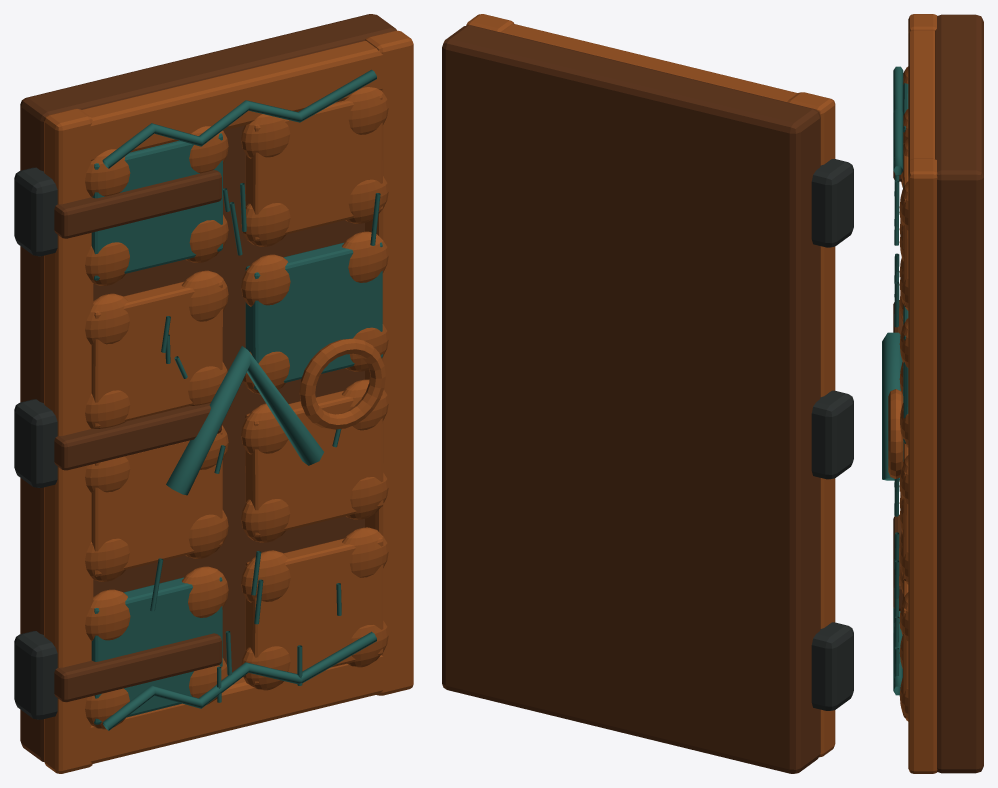
The model's file is door_bronze_pivot_LOD0.glb.
The picture shows the model from 3 angles, left to right: view 1: azimuth 30°, elevation 25°; view 2: azimuth 150°, elevation 25°; view 3: azimuth 270°, elevation 25°; orthographic projection. The views are drawn at different scales.
Parts seen in each view (by area): view 1: BronzeDoorHeart, BronzeDoorStile, BronzeDoorStile.001, BronzeDoorRail.001, BronzeDoorRail, BronzeHammeredPanel.004, BronzeHammeredPanel.007, BronzeHammeredPanel.001, BronzeHammeredPanel.005, BronzeHammeredPanel.003, BronzeHammeredPanel.002, BronzeHammeredPanel.006 (+42 smaller); view 2: BronzeDoorHeart, BronzeDoorStile, BronzeDoorRail.001, BronzePivotKnuckle.001, BronzePivotKnuckle, BronzePivotKnuckle.002; view 3: BronzeDoorHeart, BronzeDoorStile.001, BronzeDoorRail.001, BronzeLambda, BronzeCeremonialRing, BronzeMeanderTop, BronzeHammeredPanel.007, BronzeDoorStile, BronzeMeanderBottom, BronzeHingeStrap, BronzeHammeredPanel.001, BronzeHammeredPanel.003 (+12 smaller).
Part boxes in pixels (x1,y1,x2,y2): BronzeDoorHeart: (20,14,396,761); BronzeDoorStile: (44,108,93,773); BronzeDoorStile.001: (365,30,413,695); BronzeDoorRail.001: (44,40,410,166); BronzeDoorRail: (44,650,412,768); BronzeHammeredPanel.004: (91,281,222,428); BronzeHammeredPanel.007: (245,94,382,241); BronzeHammeredPanel.001: (245,537,383,684); BronzeHammeredPanel.005: (245,242,382,389); BronzeHammeredPanel.003: (245,390,383,537); BronzeHammeredPanel.002: (91,430,222,576); BronzeHammeredPanel.006: (91,133,222,280); BronzeDoorHeart: (442,25,820,773); BronzeDoorStile: (787,92,835,757); BronzeDoorRail.001: (502,24,835,150); BronzePivotKnuckle.001: (811,390,853,479); BronzePivotKnuckle: (811,622,853,710); BronzePivotKnuckle.002: (811,159,853,247); BronzeDoorHeart: (935,14,983,773); BronzeDoorStile.001: (908,158,937,773); BronzeDoorRail.001: (908,30,936,211); BronzeLambda: (882,332,903,480); BronzeCeremonialRing: (888,389,903,478); BronzeMeanderTop: (893,66,903,174); BronzeHammeredPanel.007: (903,143,908,306); BronzeDoorStile: (908,14,937,33); BronzeMeanderBottom: (893,607,902,695); BronzeHingeStrap: (893,514,903,610); BronzeHammeredPanel.001: (903,579,908,717); BronzeHammeredPanel.003: (902,442,908,580).
Bounding box in the file's own units: 1.61 × 2.64 × 0.405.
